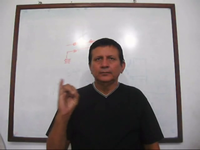oi: (57, 78, 84, 111)
